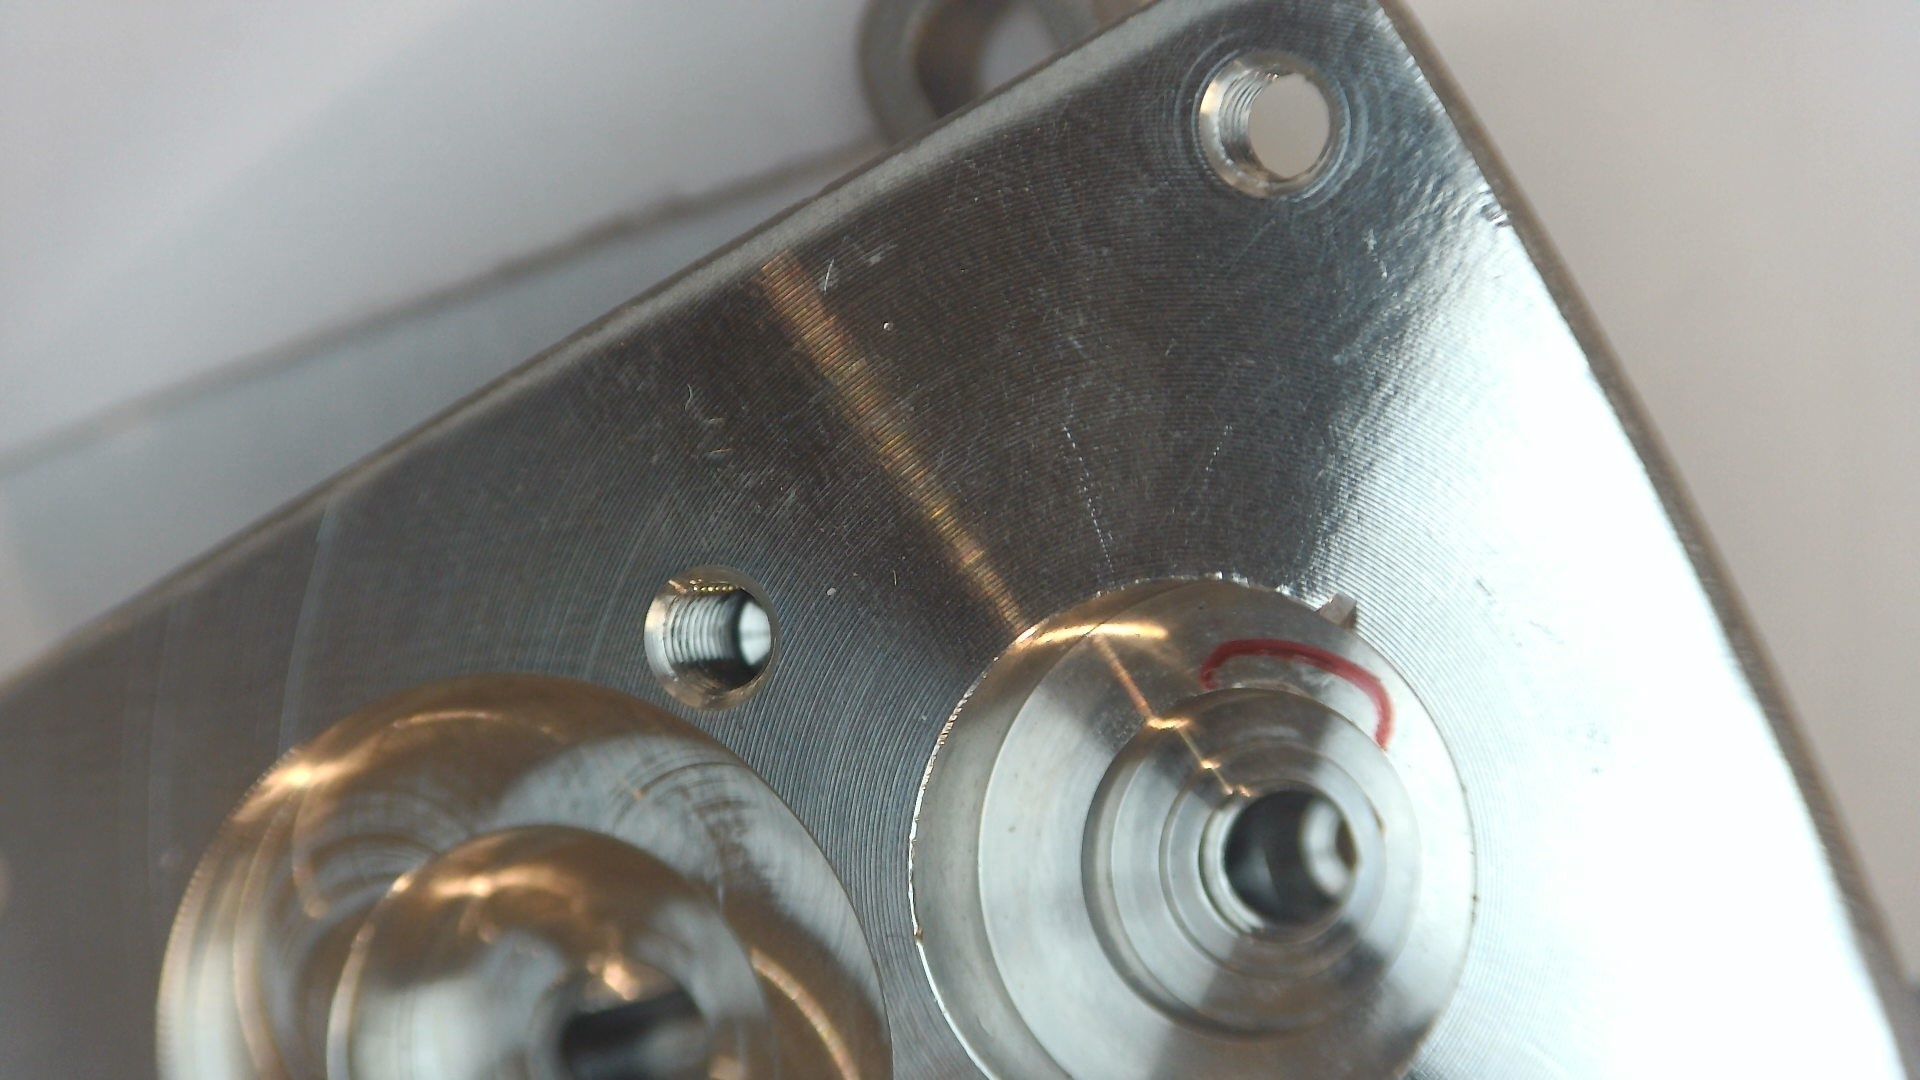dent: (1312, 587, 1362, 634), (1476, 199, 1509, 229), (878, 311, 899, 335), (822, 582, 841, 601)
thread_presence: (1193, 41, 1305, 198), (658, 574, 745, 698)
